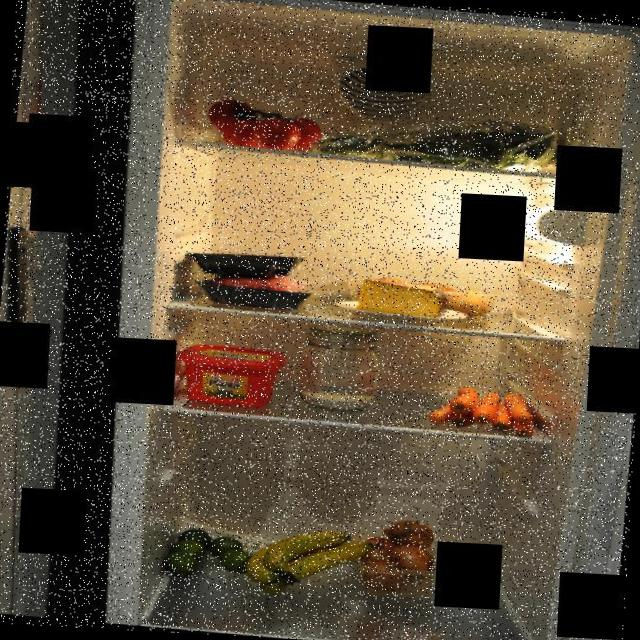Cebolla: (346, 514, 444, 602)
Mantequilla: (172, 339, 288, 412)
Patata: (422, 280, 501, 324)
Plátano: (244, 522, 376, 605)
Queso: (350, 275, 452, 323)
Tomate: (200, 94, 329, 157)
Zanahoria: (425, 380, 546, 440)
